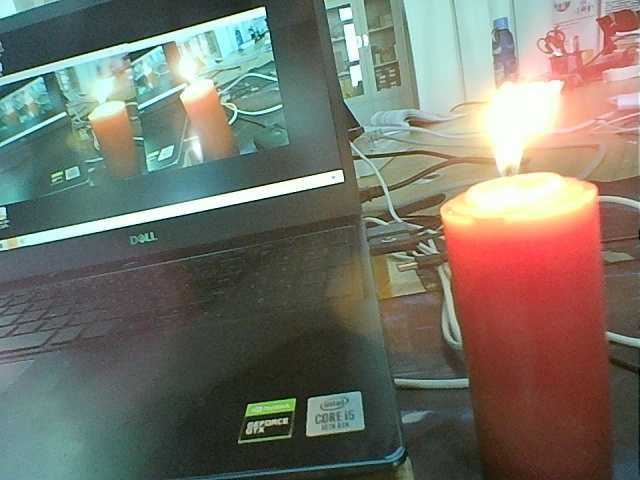candle: (444, 201, 635, 480), (174, 95, 245, 171), (90, 107, 154, 182)
fire: (466, 79, 582, 213), (85, 73, 117, 116), (174, 61, 208, 94)
